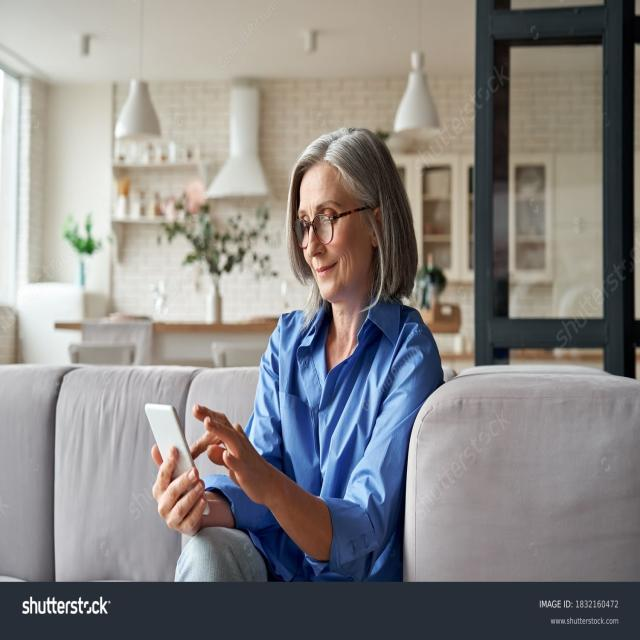smartphone-person: (128, 117, 460, 587)
